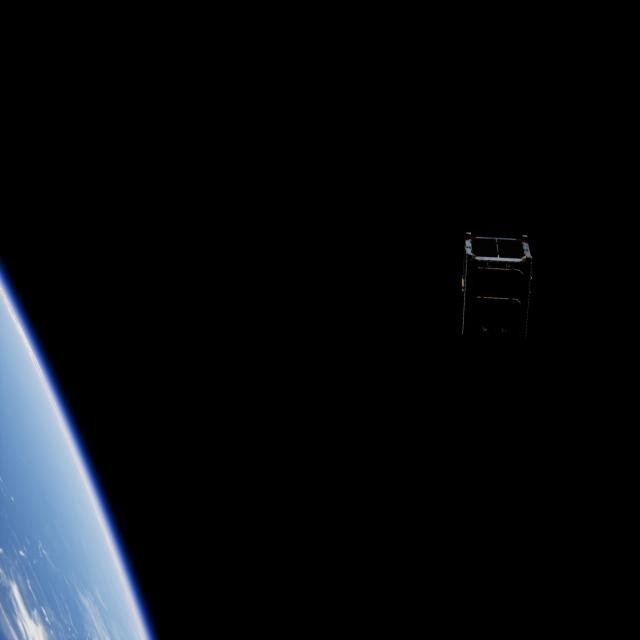medium_debris: (449, 230, 544, 352)
